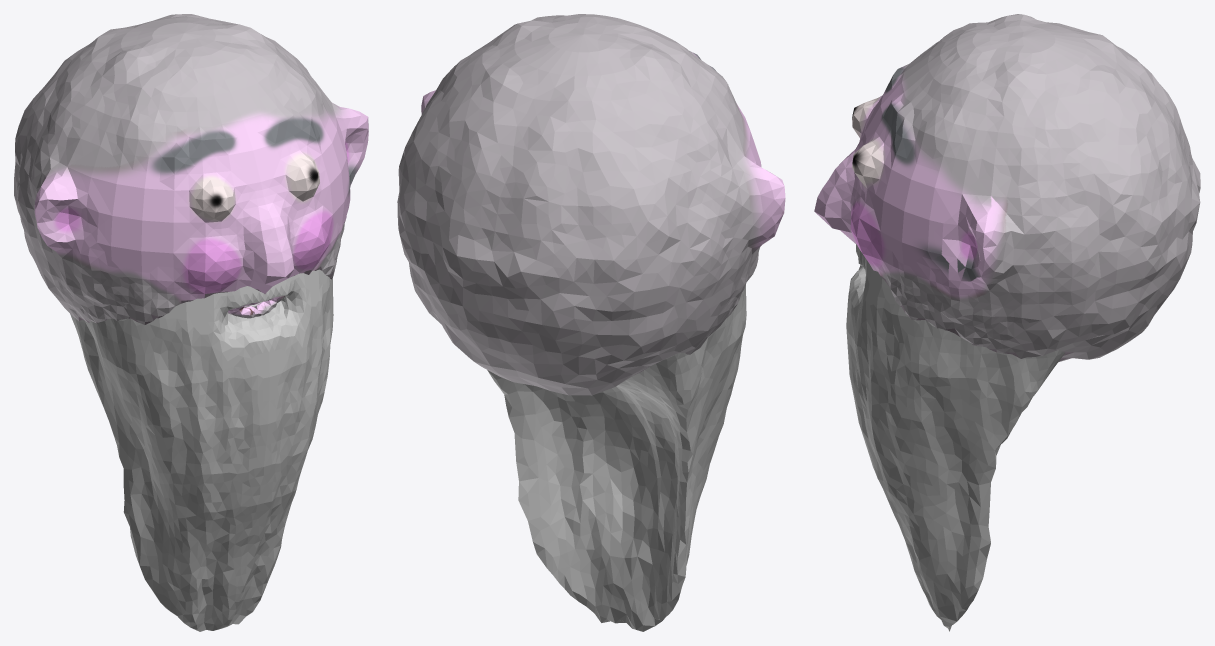
Rendered from yomsayer.fbx.
3 renders of one model, left to right at view 1: azimuth 30°, elevation 25°; view 2: azimuth 150°, elevation 25°; view 3: azimuth 270°, elevation 25°, orthographic. The views are drawn at different scales.
Visible parts, largest first — view 1: Sphere, Sphere.001; view 2: Sphere, Sphere.001; view 3: Sphere, Sphere.001.
Boxes of the visible parts, <box> form: Sphere: <box>14,14,368,324</box>; Sphere.001: <box>70,269,333,631</box>; Sphere: <box>397,14,785,395</box>; Sphere.001: <box>487,285,746,631</box>; Sphere: <box>814,14,1200,362</box>; Sphere.001: <box>846,244,1064,631</box>.
Bounding box in the file's own units: 231 × 379 × 227.
